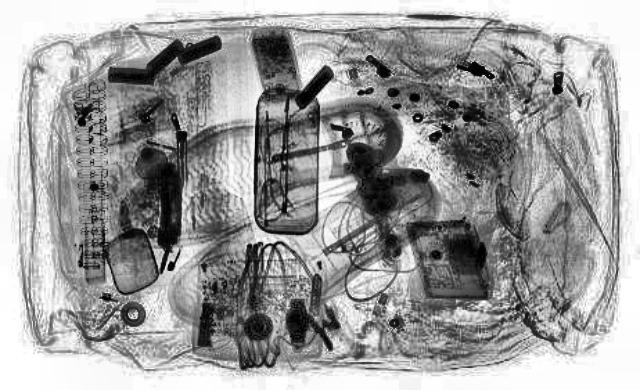Gun: (343, 138, 431, 218)
